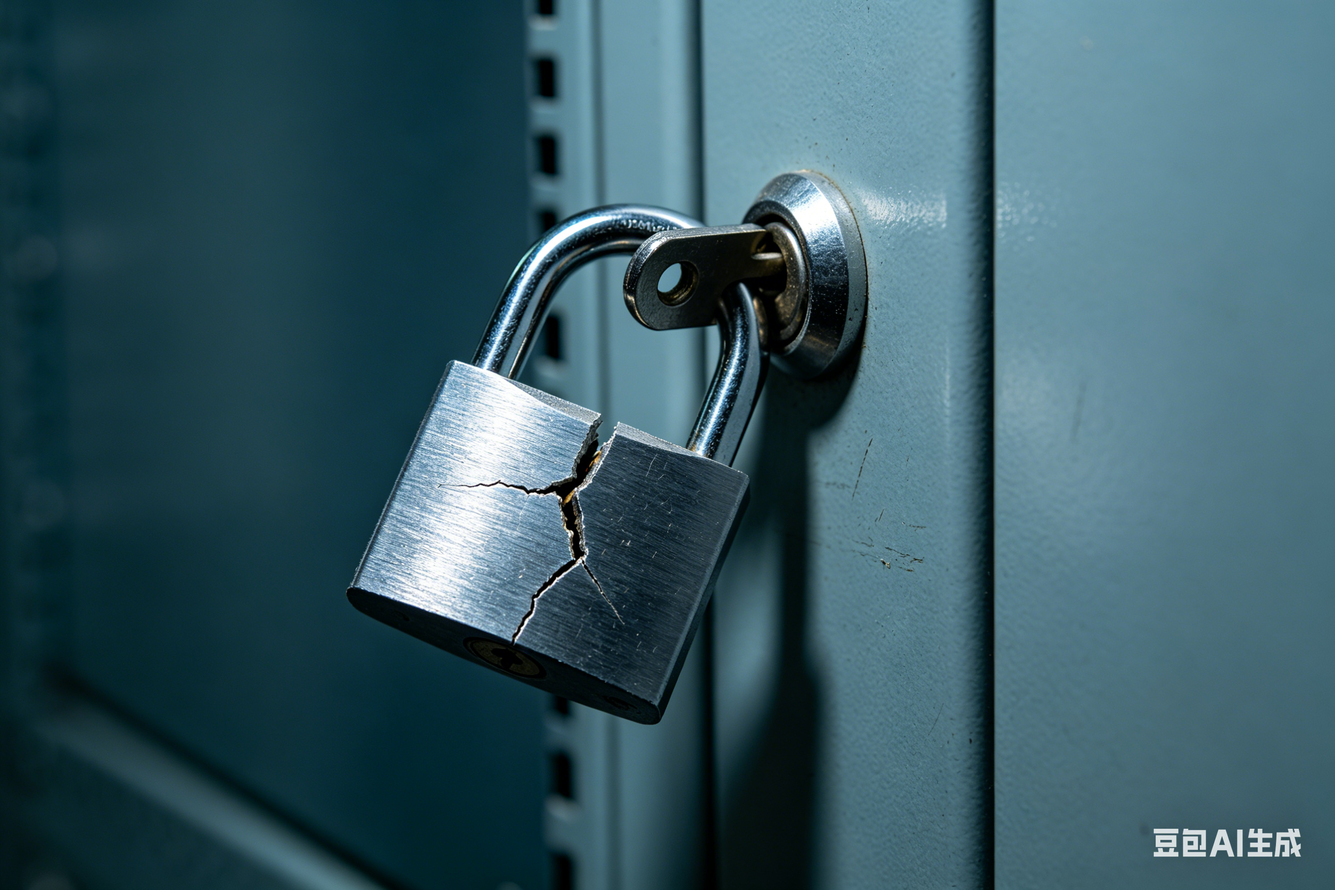BadLock: (516, 390, 636, 665)
